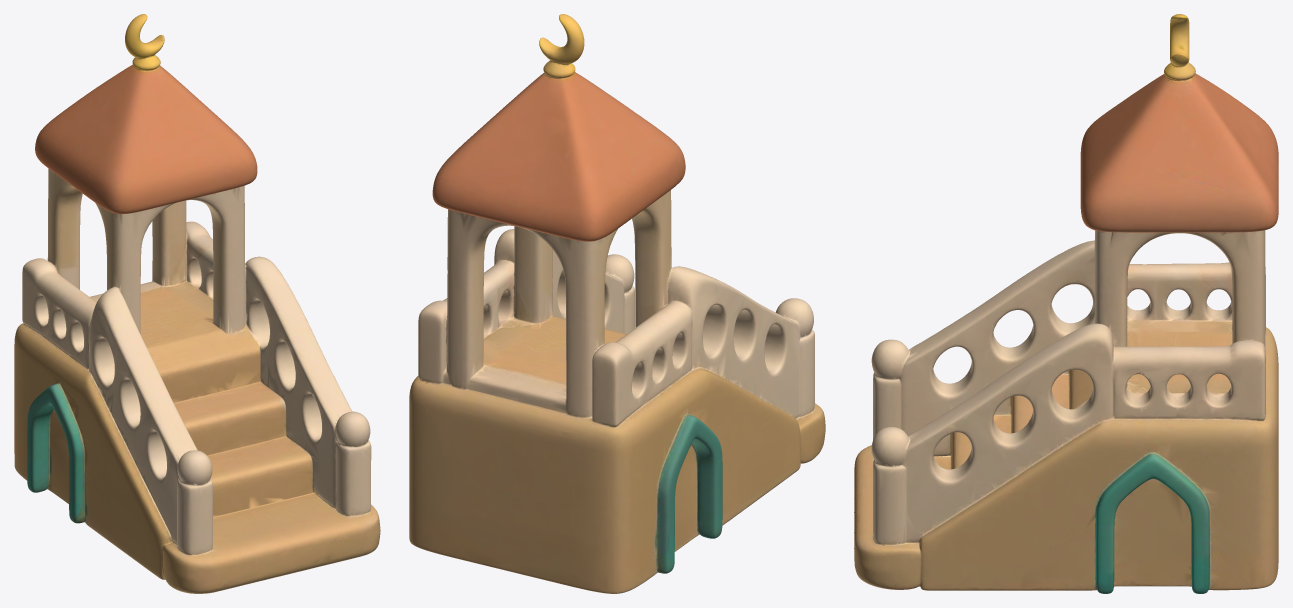
Rendered from minbar-variant-02-teal-rail.glb.
3 views of the same model, side by side, from view 1: azimuth 30°, elevation 25°; view 2: azimuth 150°, elevation 25°; view 3: azimuth 270°, elevation 25° (orthographic). The views are drawn at different scales.
Parts seen in each view (by area): view 1: mesh_node; view 2: mesh_node; view 3: mesh_node.
Boxes of the visible parts, left/top/right/bottom form: mesh_node: left=14, top=14, right=380, bottom=593; mesh_node: left=409, top=14, right=825, bottom=593; mesh_node: left=854, top=14, right=1278, bottom=593.
Size of the model in its own units: 0.9378 by 1.9 by 1.4.
1 material, 1 textured.
